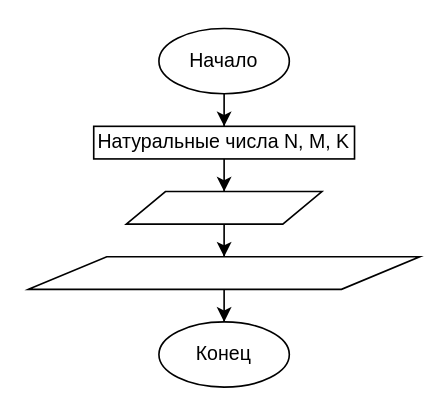
Image size: 448x416. Some labels were removed from this diagram. The shapes that lost their labels are listed below. From the top down, each one's centre as x and y in pixels, then its label:
At (223,207): "Ввод N, M, K".
At (223,272): "Вывод M % N + N % K + K % M".
